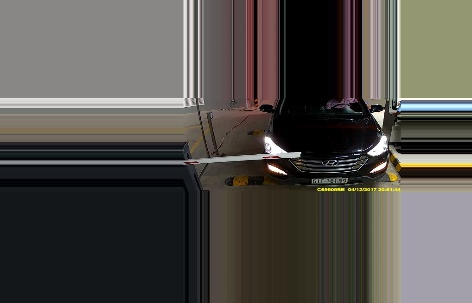plate: (312, 176, 352, 185)
